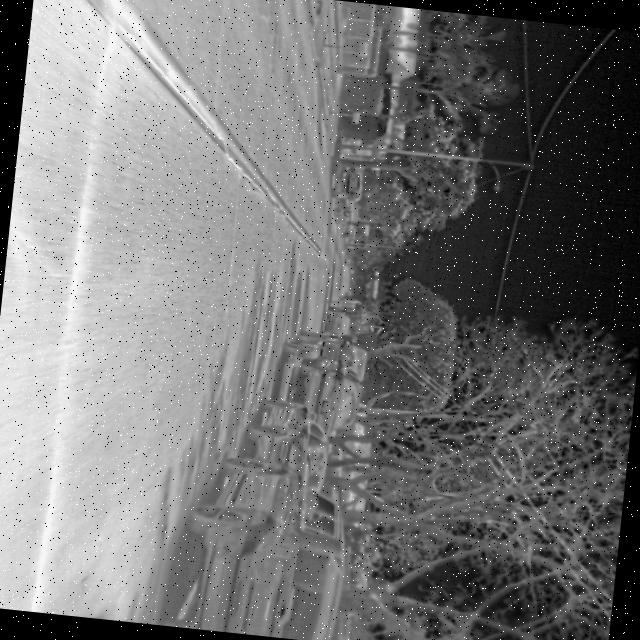Vehicle: (160, 436, 356, 640), (269, 327, 372, 440), (239, 394, 338, 496), (328, 162, 362, 202)
